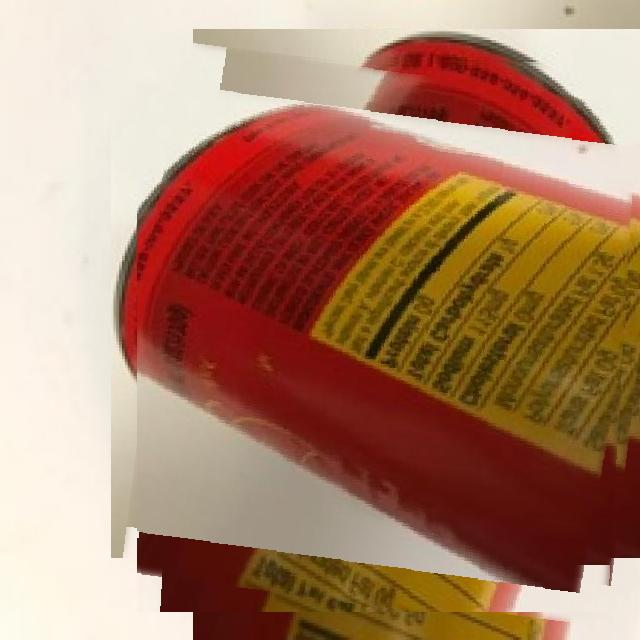recyclable: (137, 56, 640, 612)
